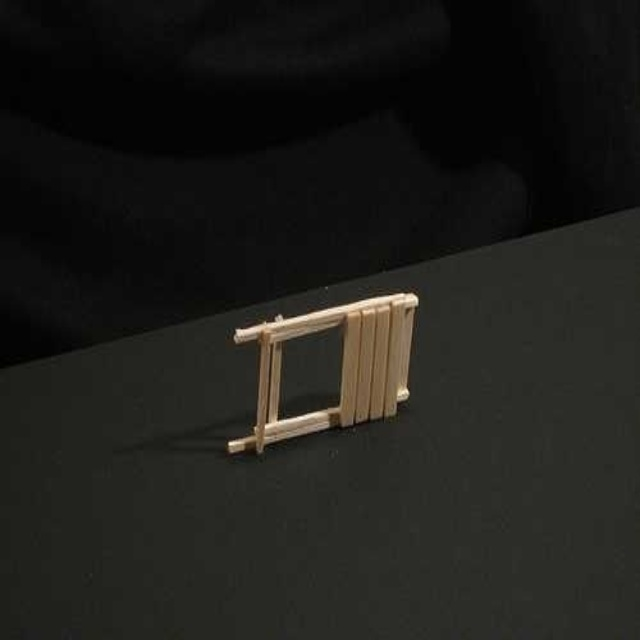obstacle: (227, 294, 417, 452)
